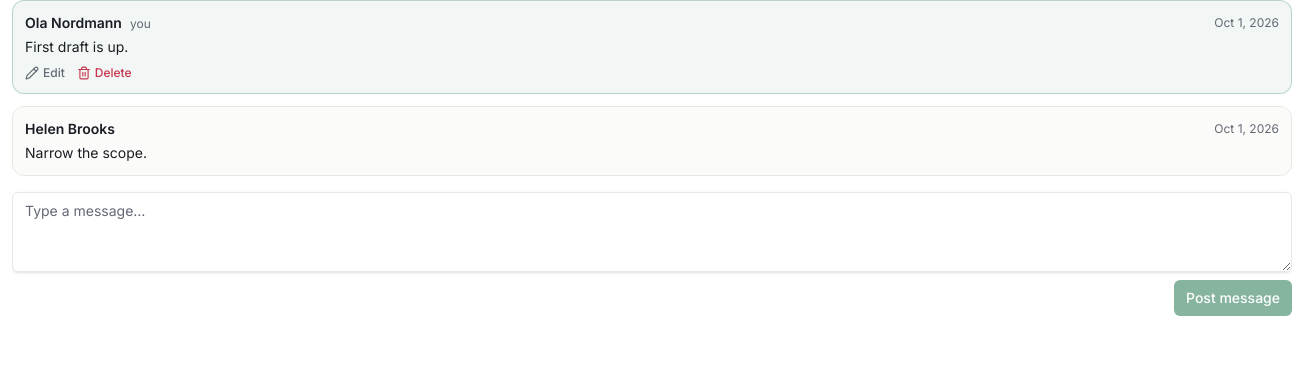
FeedbackThread (§11.7 discussion) › surfaces a failed post instead of clearing the draft
The image size is (1304, 365).
Type "hello" into the text box labelled "Type a message…".
click(652, 232); type("hello")  # box [12,192,1292,272]
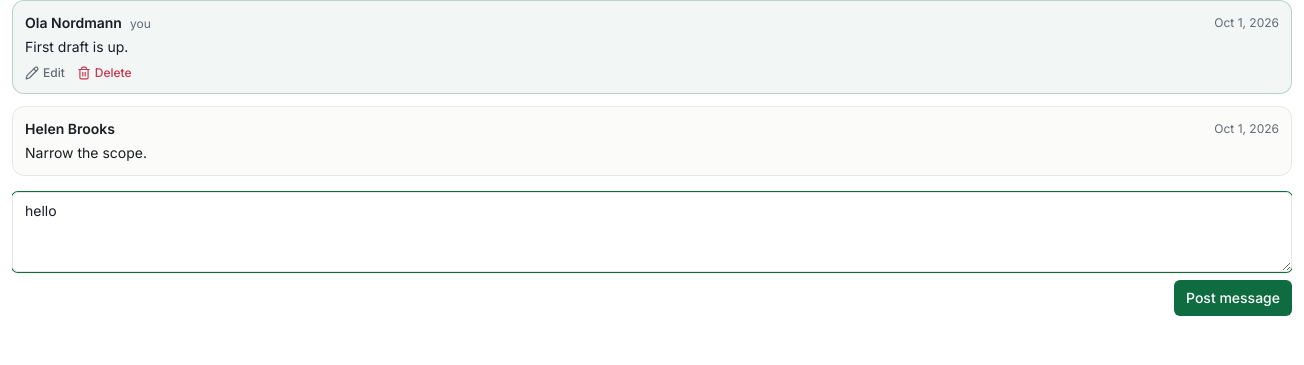
Click the button "Post message".
click(1233, 298)  # box [1174,280,1292,316]
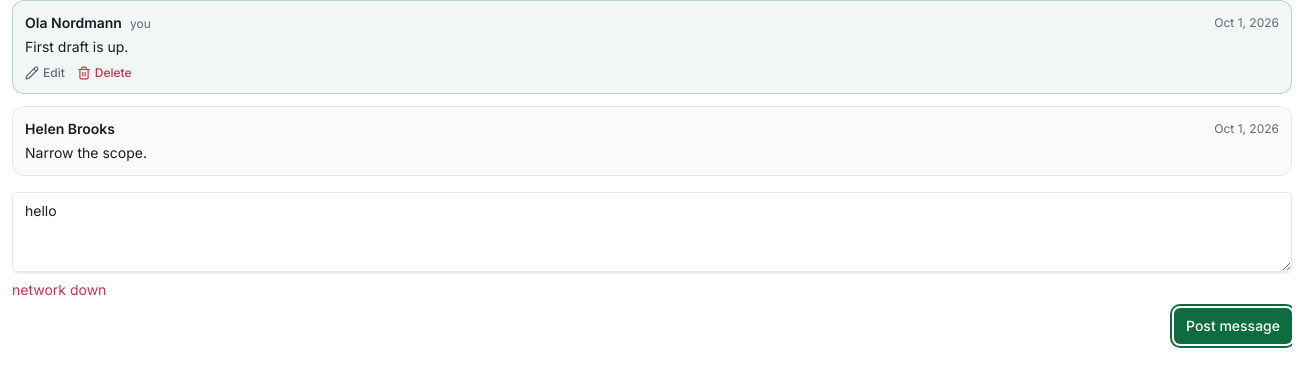
expect the message reads "network down": met, box [12,281,106,298]
